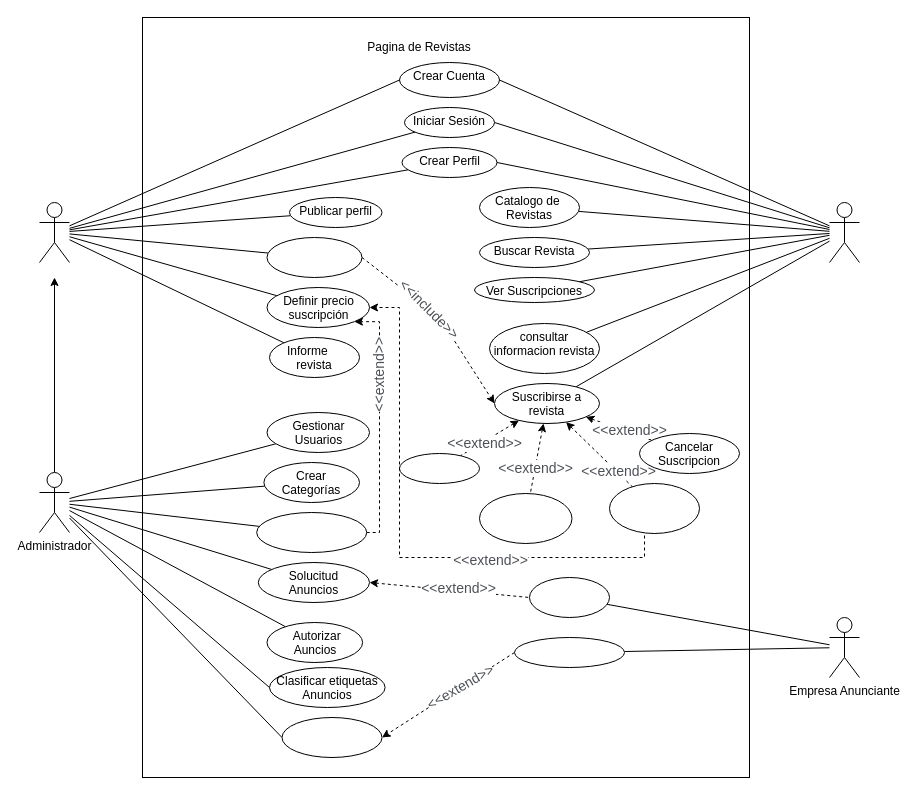
Image size: 917x795. Some labels were removed from this diagram. Each missing label, with the box of its shape:
Definir Porcentaje cobro: (256, 512, 367, 552)
Descargar Revista: (478, 492, 572, 544)
Editor: (38, 202, 70, 262)
Genera Factura Publicidad: (281, 716, 382, 758)
Ingresa Solicitud: (528, 576, 610, 618)
Leer Revista: (398, 452, 480, 484)
Paga Publicidad: (514, 636, 624, 668)
Publicar Revista: (266, 236, 362, 278)
Renovar Suscripción: (608, 482, 700, 534)
Usuario: (828, 202, 860, 262)
